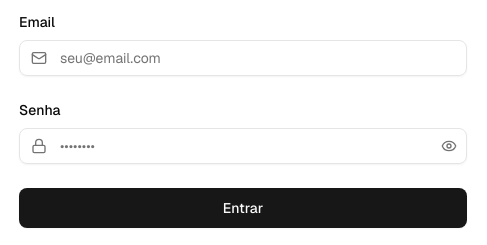
it: LoginForm › should display loading state during form submission
In the field with placeholder "seu@email.com": (243, 58) [19,40,467,76], type "test@example.com"
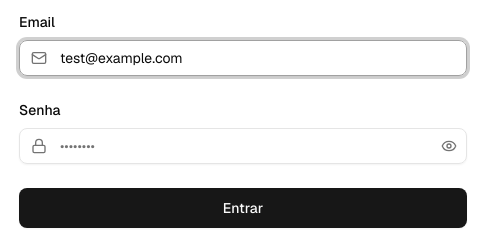
In the password field with placeholder "••••••••": (243, 146) [19,128,467,164], type "password123"
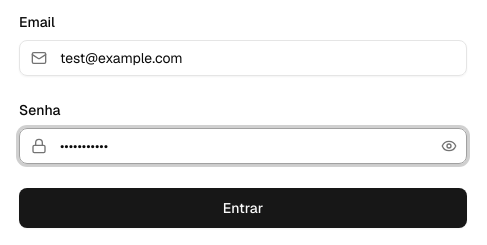
Click the button "Entrar": (243, 208) [19,188,467,228]
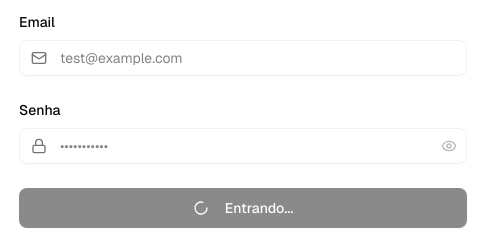
expect the button "Entrando..." is disabled: met, box [19,188,467,228]
